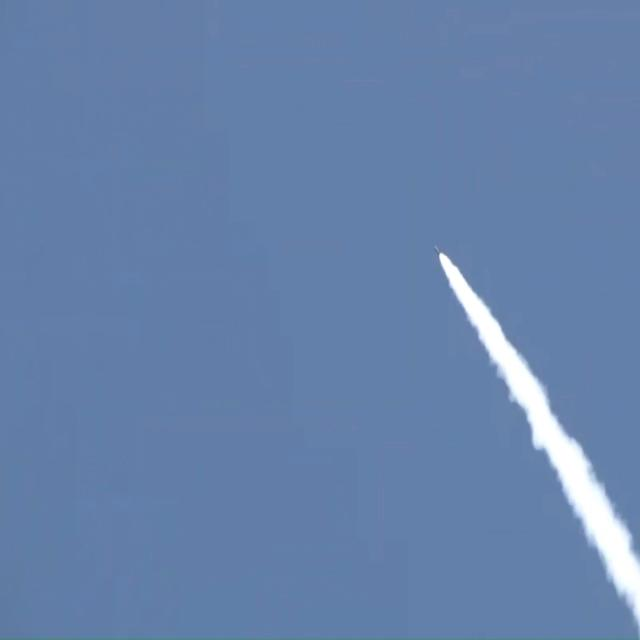Rocket: (434, 244, 442, 257)
